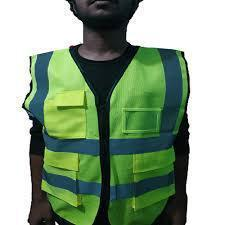helmet: (22, 43, 192, 224)
